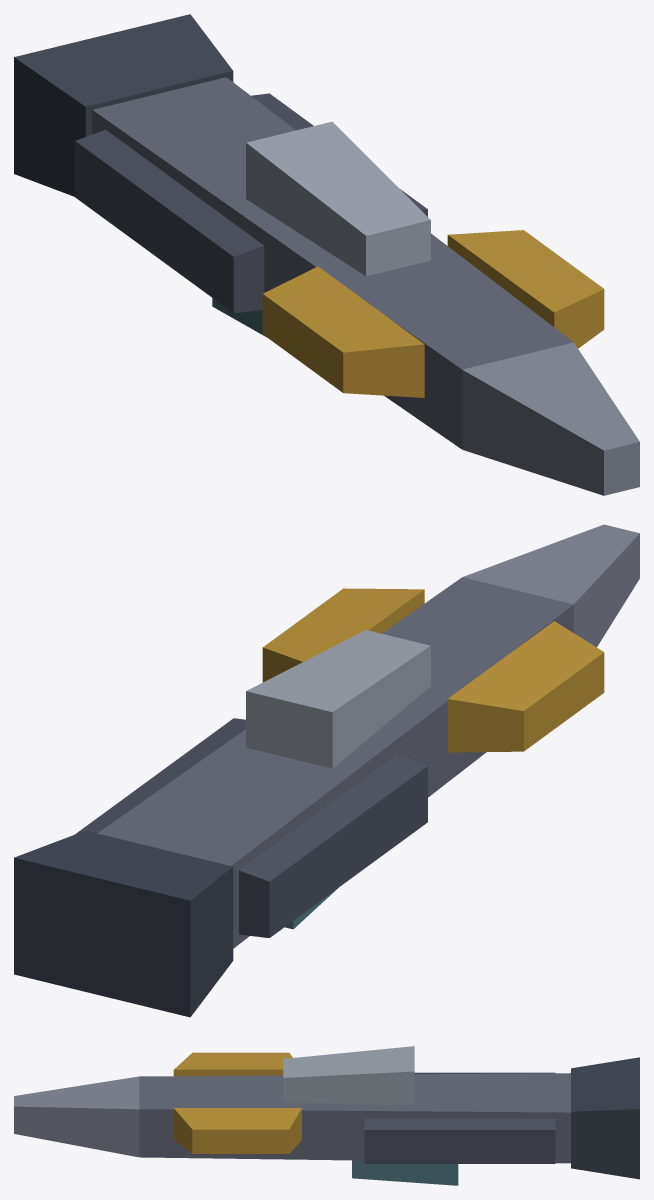
File: frigate.obj
3 views of the same model, one above another, from view 1: azimuth 30°, elevation 25°; view 2: azimuth 150°, elevation 25°; view 3: azimuth 270°, elevation 25° (orthographic). The views are drawn at different scales.
Size of the model in its own units: 0.29 by 0.203 by 1.
